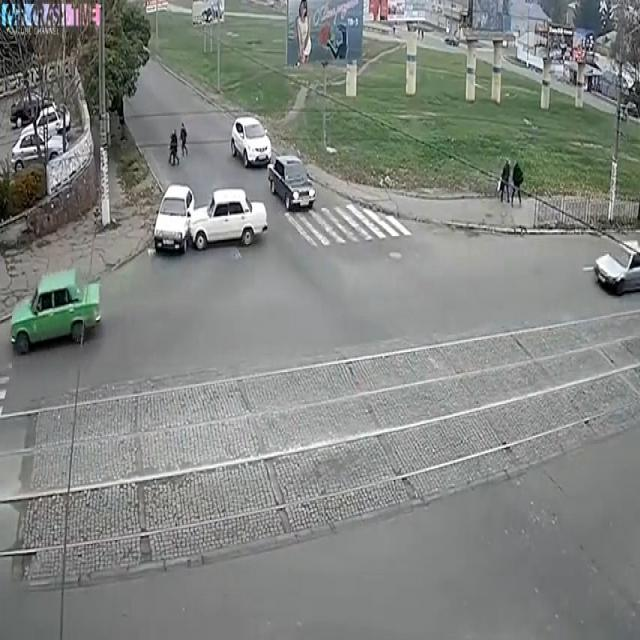Accident: (153, 172, 264, 264)
